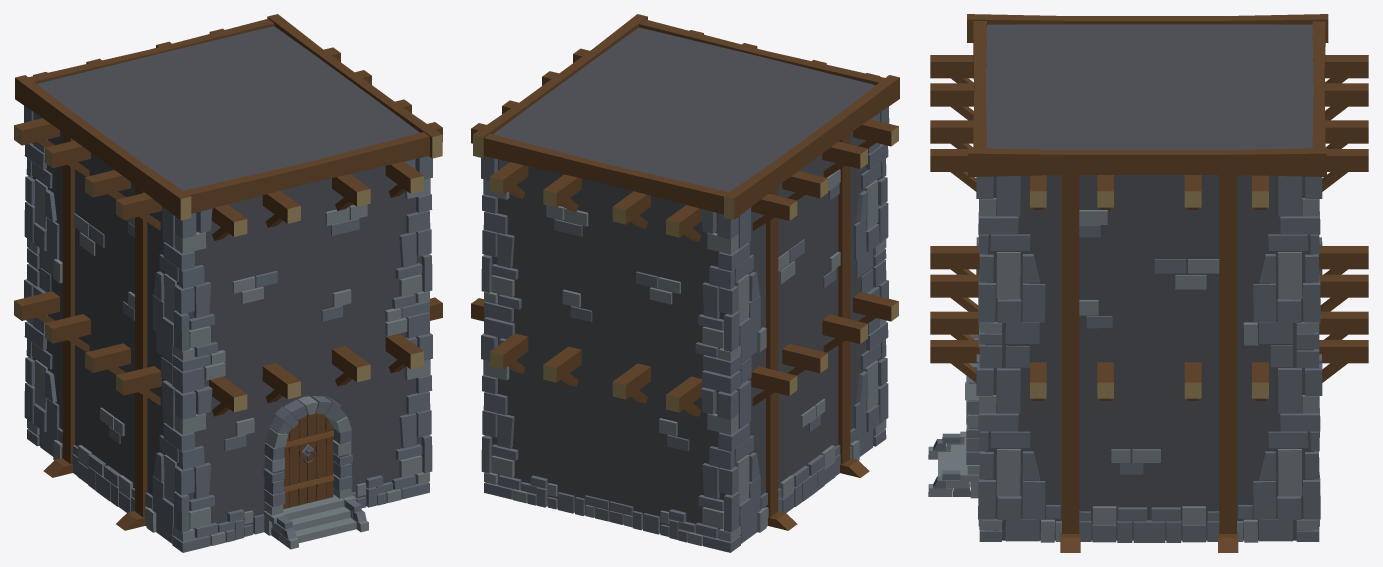
File: House_3.gltf
3 views of the same model, side by side, from view 1: azimuth 30°, elevation 25°; view 2: azimuth 150°, elevation 25°; view 3: azimuth 270°, elevation 25° (orthographic). The views are drawn at different scales.
Visible parts, largest first — view 1: House_3_Cube.305; view 2: House_3_Cube.305; view 3: House_3_Cube.305.
Part boxes in pixels (bbox=[...]): House_3_Cube.305: bbox=[14, 14, 442, 552]; House_3_Cube.305: bbox=[471, 14, 899, 552]; House_3_Cube.305: bbox=[928, 14, 1368, 552].
Size of the model in its own units: 1.94 by 2.09 by 2.12.
